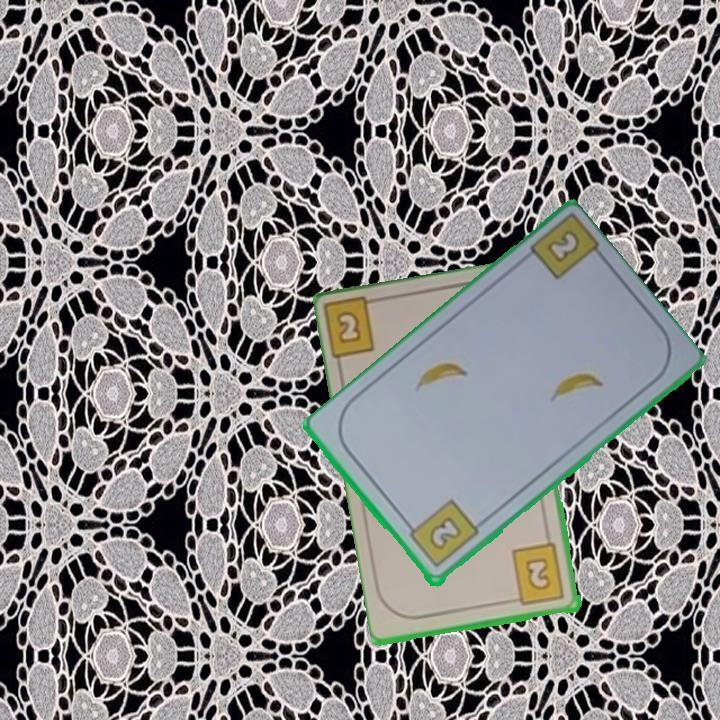2b: (401, 496, 482, 572), (323, 294, 388, 364), (507, 541, 568, 608), (543, 223, 583, 267)
